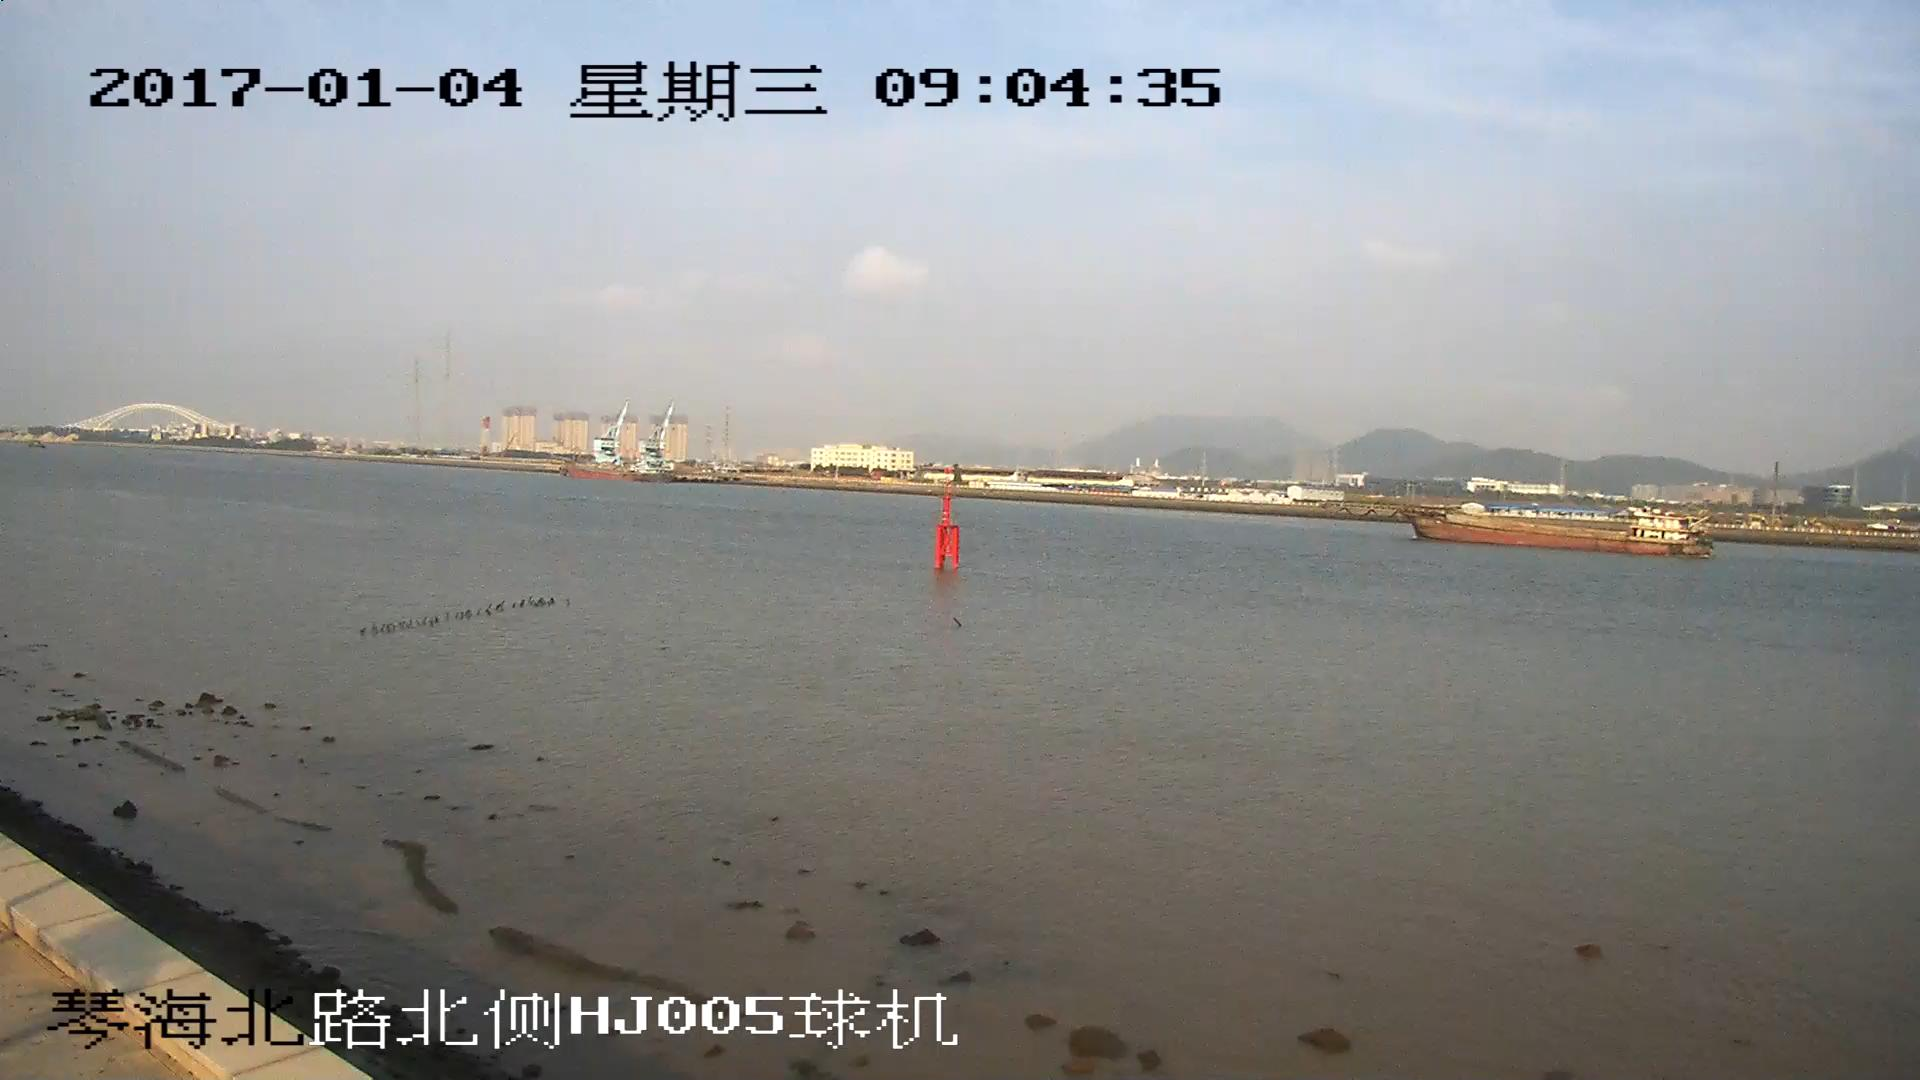bulk cargo carrier: (1404, 503, 1714, 555)
